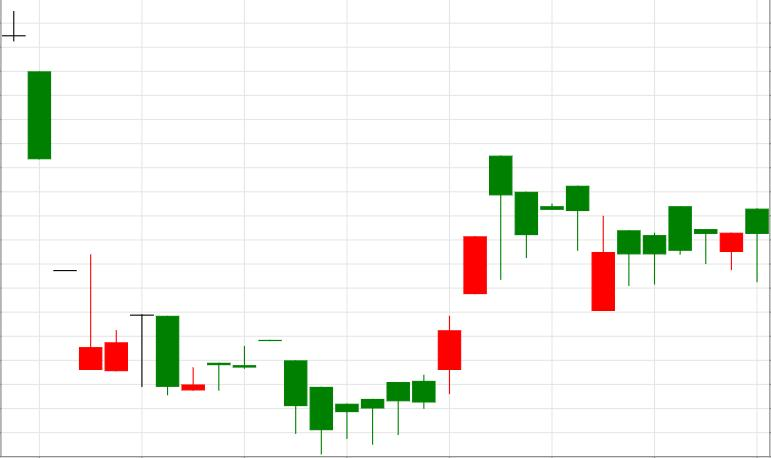hanging_man_fall: (309, 155, 512, 455)
inverse_hammer_rise: (2, 12, 102, 370)
